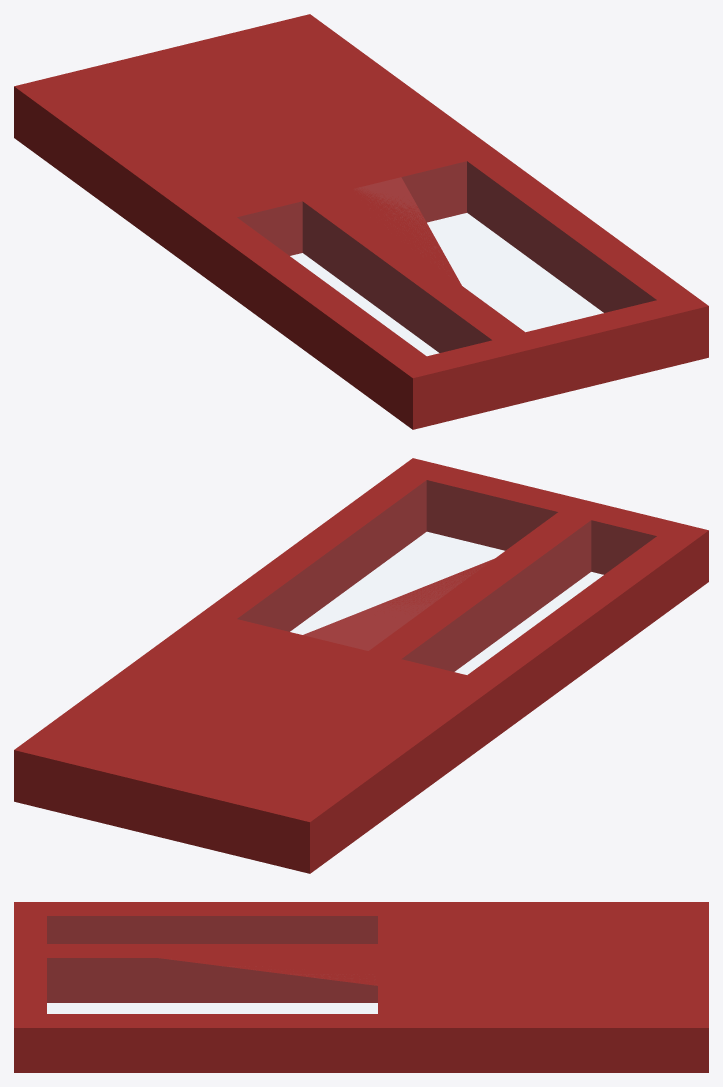
File: doors_lib.glb
3 views of the same model, one above another, from view 1: azimuth 30°, elevation 25°; view 2: azimuth 150°, elevation 25°; view 3: azimuth 270°, elevation 25° (orthographic). The views are drawn at different scales.
Visible parts, largest first — view 1: window_wood_3_LAYER_wood; view 2: window_wood_3_LAYER_wood; view 3: window_wood_3_LAYER_wood.
Boxes of the visible parts, x1,y1,x2,y2 form: window_wood_3_LAYER_wood: (14, 14, 708, 429); window_wood_3_LAYER_wood: (14, 458, 708, 873); window_wood_3_LAYER_wood: (14, 902, 708, 1072).
Size of the model in its own units: 0.9 by 0.15 by 2.1.
